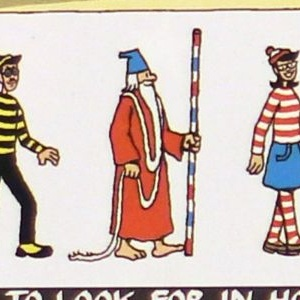Wenda: (240, 39, 300, 258)
Wizard Whitebeard: (92, 39, 208, 261)
